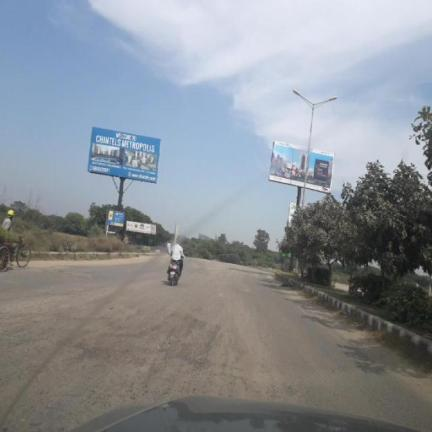Road: (0, 256, 431, 431)
